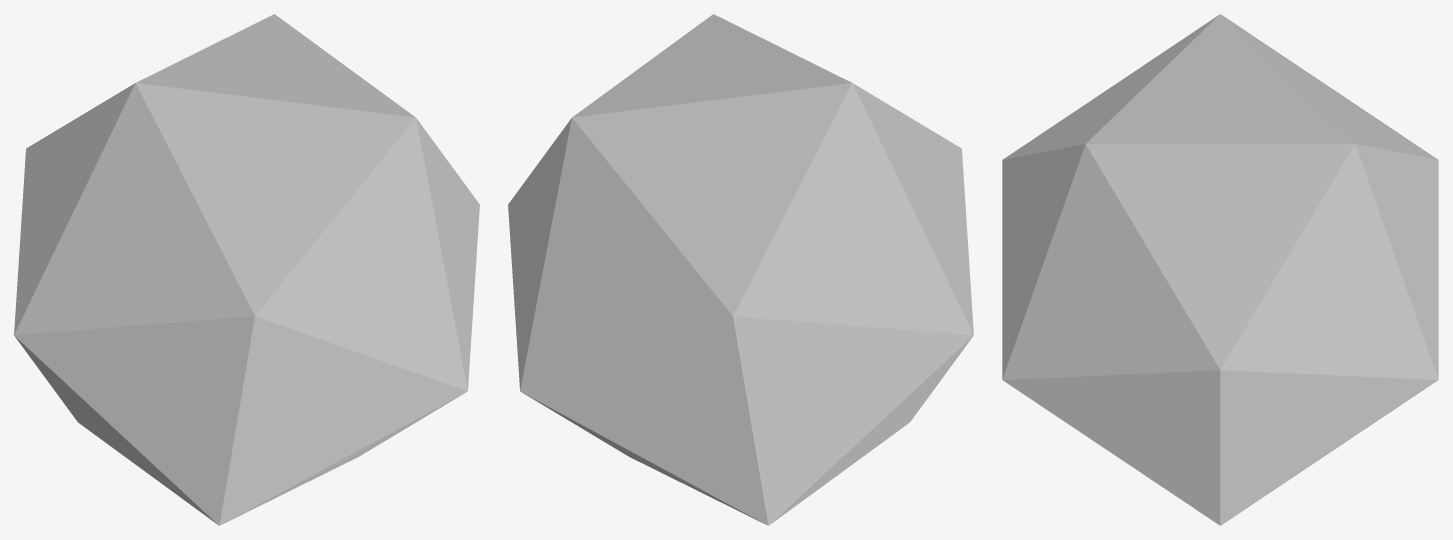
File: SM_RestosVamtac_v1_LOD1.fbx
The picture shows the model from 3 angles, left to right: view 1: azimuth 30°, elevation 25°; view 2: azimuth 150°, elevation 25°; view 3: azimuth 270°, elevation 25°; orthographic projection. The views are drawn at different scales.
Parts seen in each view (by area): view 1: Humo; view 2: Humo; view 3: Humo.
Boxes of the visible parts, box(x1,y1,x2,y2) form: Humo: box(14, 14, 479, 525); Humo: box(508, 14, 973, 525); Humo: box(1002, 14, 1438, 525).
Size of what is drawn, in the model's own units: 0.5996 by 0.527 by 0.5104.
